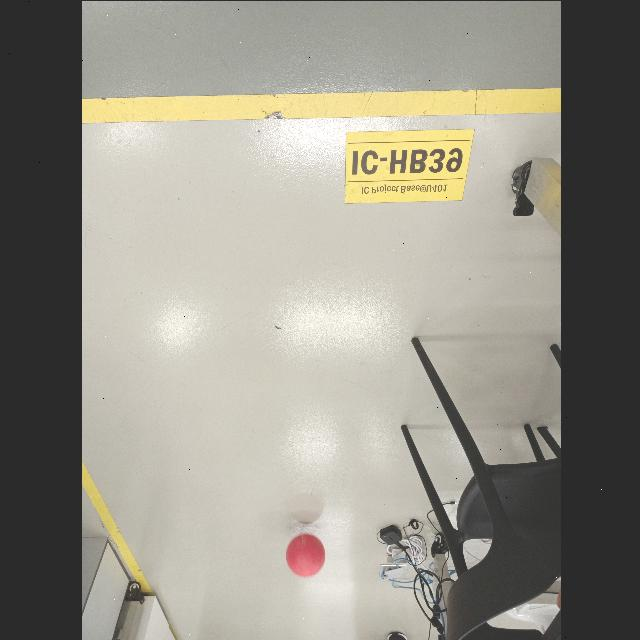R: (284, 534, 324, 576)
